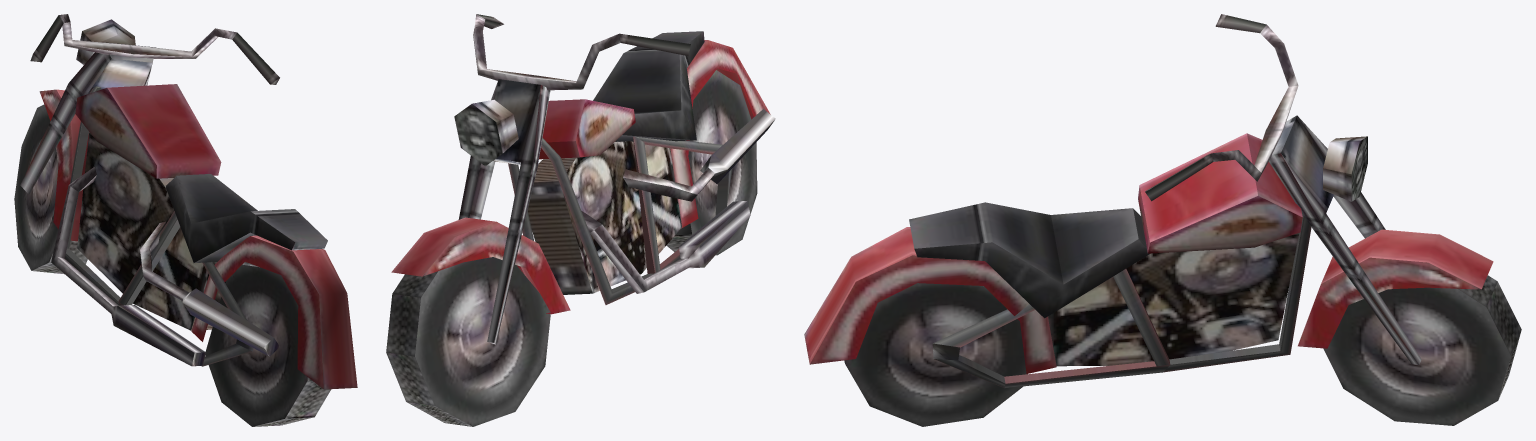
Rendered from p54_22_motorcycle_cruiser_red.glb.
3 renders of one model, left to right at view 1: azimuth 30°, elevation 25°; view 2: azimuth 150°, elevation 25°; view 3: azimuth 270°, elevation 25°, orthographic. The views are drawn at different scales.
Parts seen in each view (by area): view 1: Body; view 2: Body; view 3: Body.
Part boxes in pixels (x1=…): Body: x1=14, y1=14, x2=357, y2=426; Body: x1=386, y1=14, x2=775, y2=426; Body: x1=804, y1=14, x2=1521, y2=426.
Bounding box in the file's own units: 0.9772 × 1.39 × 2.49.
Materials: 1 (1 with a texture image).
